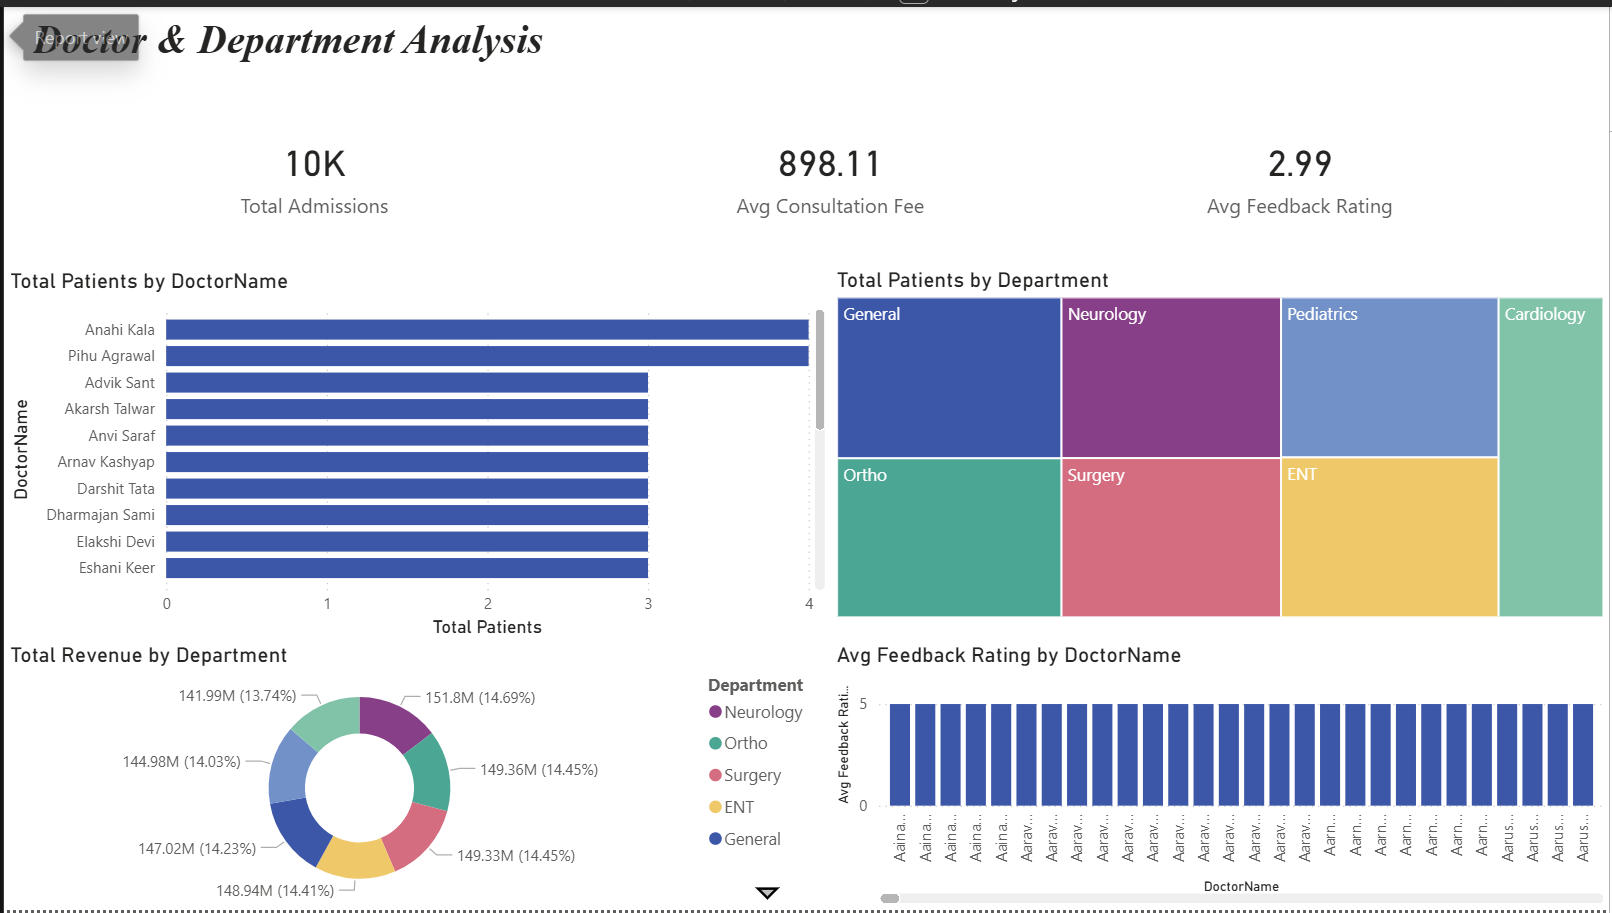

Layout of this report page (visuals, bound fields, positions):
{"tool":"powerbi","page":{"name":"doctor and dept","canvas":[1280,720],"ordinal":2},"visuals":[{"type":"textbox","box":[18.5,2.3,493.6,55.6],"z":0},{"type":"card","fields":{"Values":["_Measure.Total Admissions"]},"box":[0,58,494.5,149.7],"z":1000},{"type":"card","fields":{"Values":["_Measure.Avg Consultation Fee"]},"box":[412.1,58,494.5,148.6],"z":2000},{"type":"card","fields":{"Values":["_Measure.Avg Feedback Rating"]},"box":[785.9,58,494.5,149.7],"z":3000},{"type":"treemap","fields":{"Values":["_Measure.Total Patients"],"Group":["Doctor_Table.Department"]},"box":[659.4,206.6,621,284.4],"z":4000},{"type":"donutChart","fields":{"Category":["Doctor_Table.Department"],"Y":["_Measure.Total Revenue"]},"box":[0,506.1,659.4,213.6],"z":5000},{"type":"columnChart","fields":{"Category":["Doctor_Table.DoctorName"],"Y":["_Measure.Avg Feedback Rating"]},"box":[659.4,506.1,621,213.6],"z":6000},{"type":"barChart","fields":{"Category":["Doctor_Table.DoctorName"],"Y":["_Measure.Total Patients"]},"box":[0,207.8,659.4,298.3],"z":7000}]}

Visuals, with their boxes in screenshot pixels (x1, y1, x2, y2), scaled from the page's 1280x720 canvas onto the 1612x913 screenshot:
textbox: 23 3 645 73
card - _Measure.Total Admissions: 0 74 623 263
card - _Measure.Avg Consultation Fee: 519 74 1142 262
card - _Measure.Avg Feedback Rating: 990 74 1611 263
treemap - _Measure.Total Patients x Doctor_Table.Department: 830 262 1611 623
donutChart - Doctor_Table.Department x _Measure.Total Revenue: 0 642 830 912
columnChart - Doctor_Table.DoctorName x _Measure.Avg Feedback Rating: 830 642 1611 912
barChart - Doctor_Table.DoctorName x _Measure.Total Patients: 0 264 830 642
